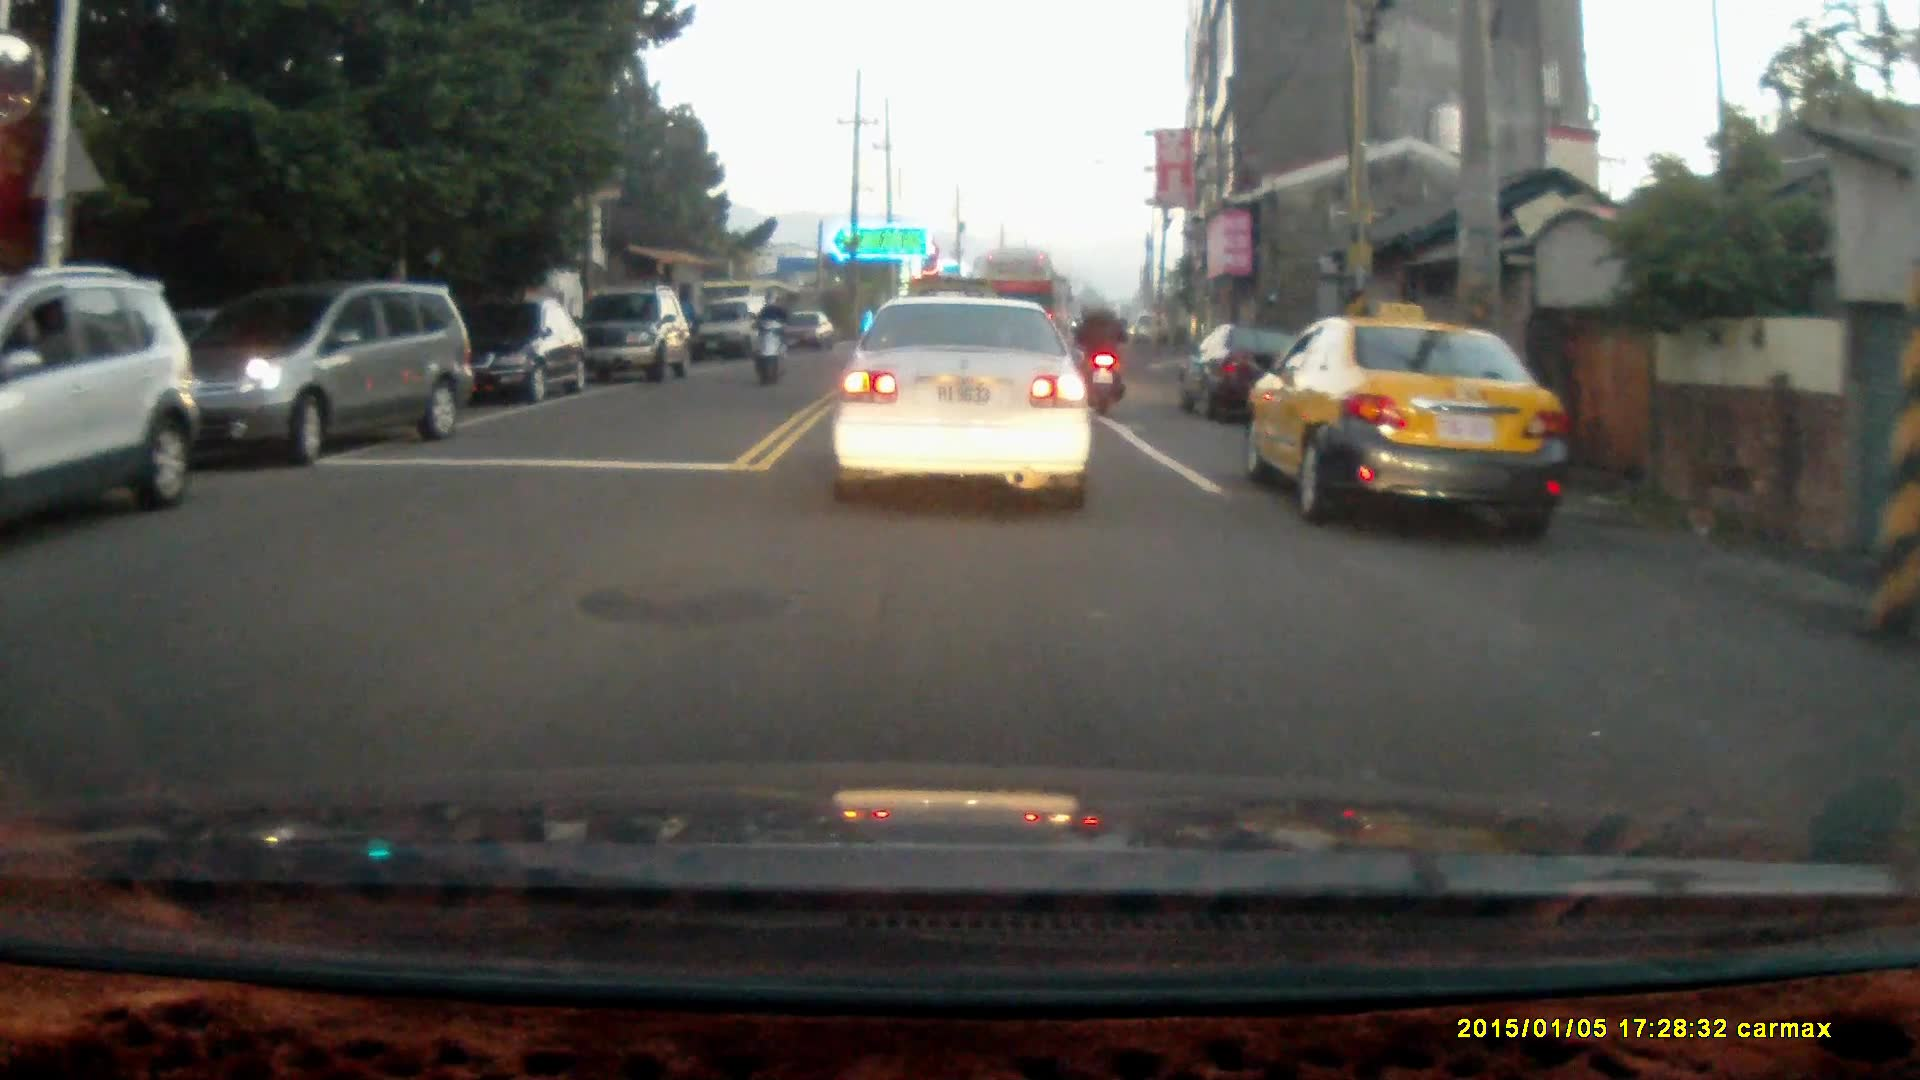rider: (1074, 290, 1132, 418), (750, 286, 788, 384)
vehicle: (1251, 317, 1573, 544), (833, 285, 1109, 501), (166, 278, 473, 467), (1, 263, 199, 529), (458, 294, 590, 404), (581, 285, 693, 380), (703, 290, 786, 357)
